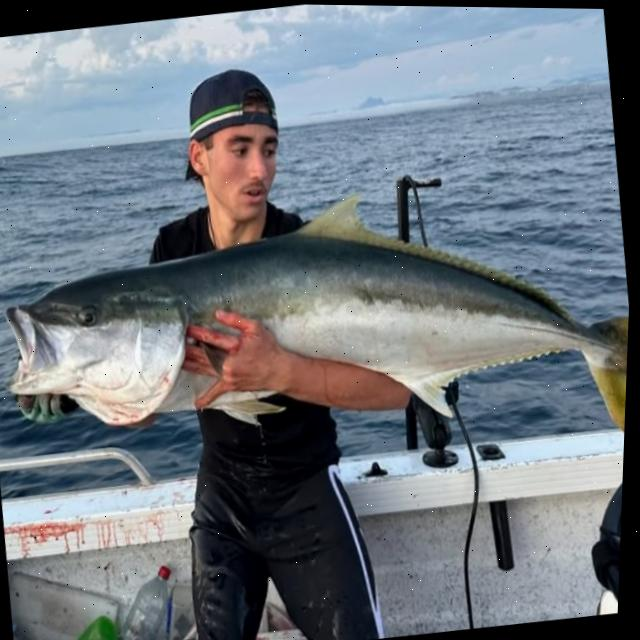Kingfish: (0, 155, 635, 540)
